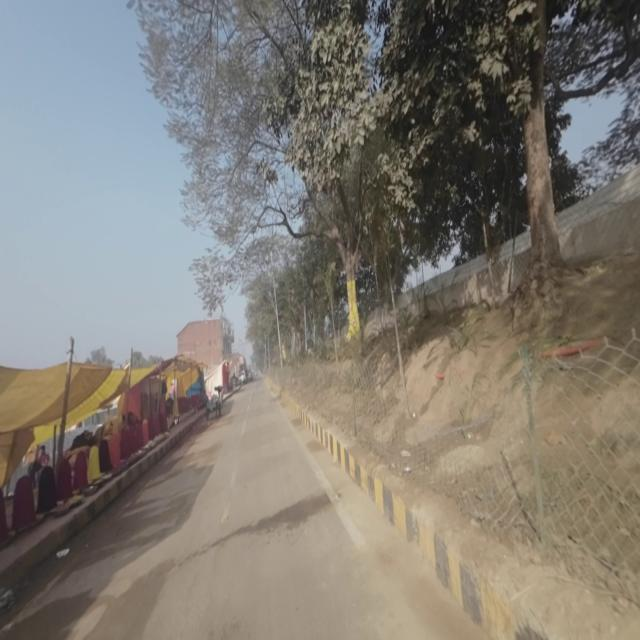Garbage: (55, 544, 73, 564)
